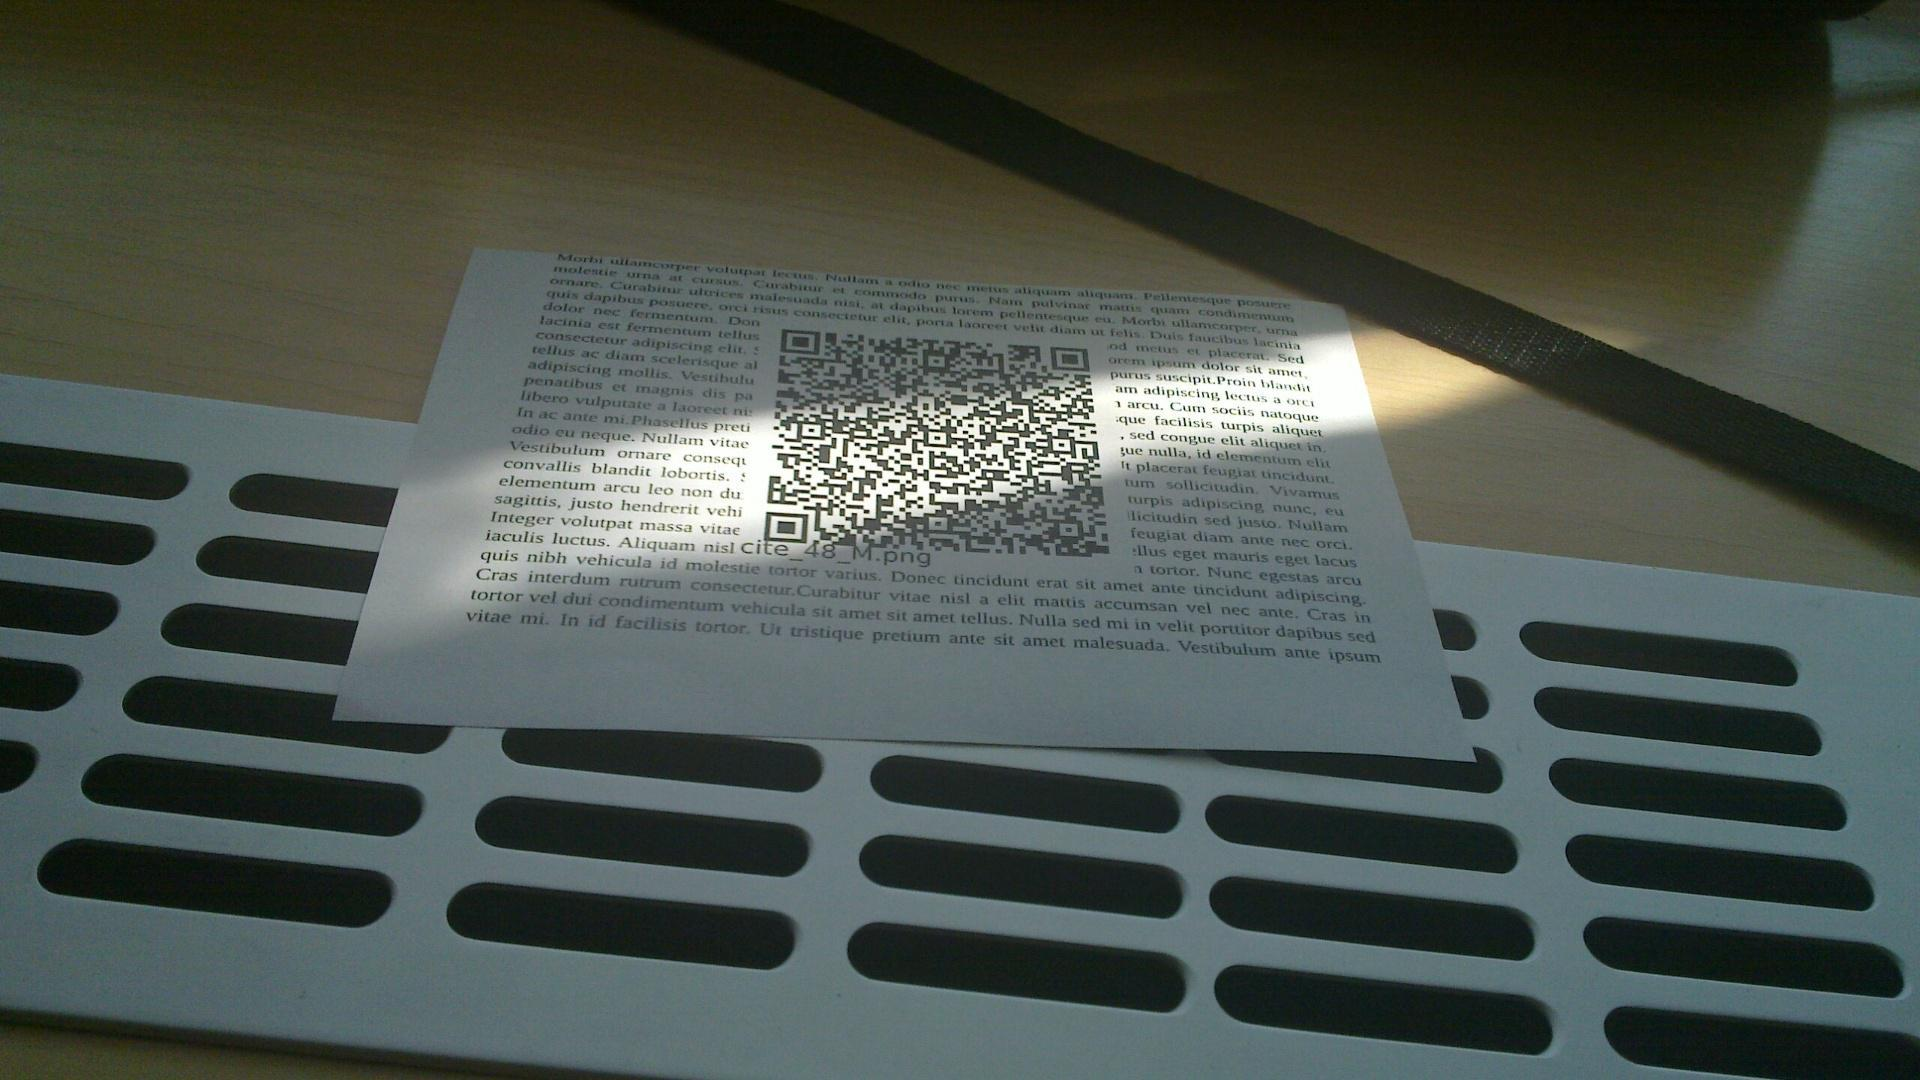Finder pattern: (764, 508, 814, 550), (1044, 342, 1095, 375), (777, 327, 825, 359)
